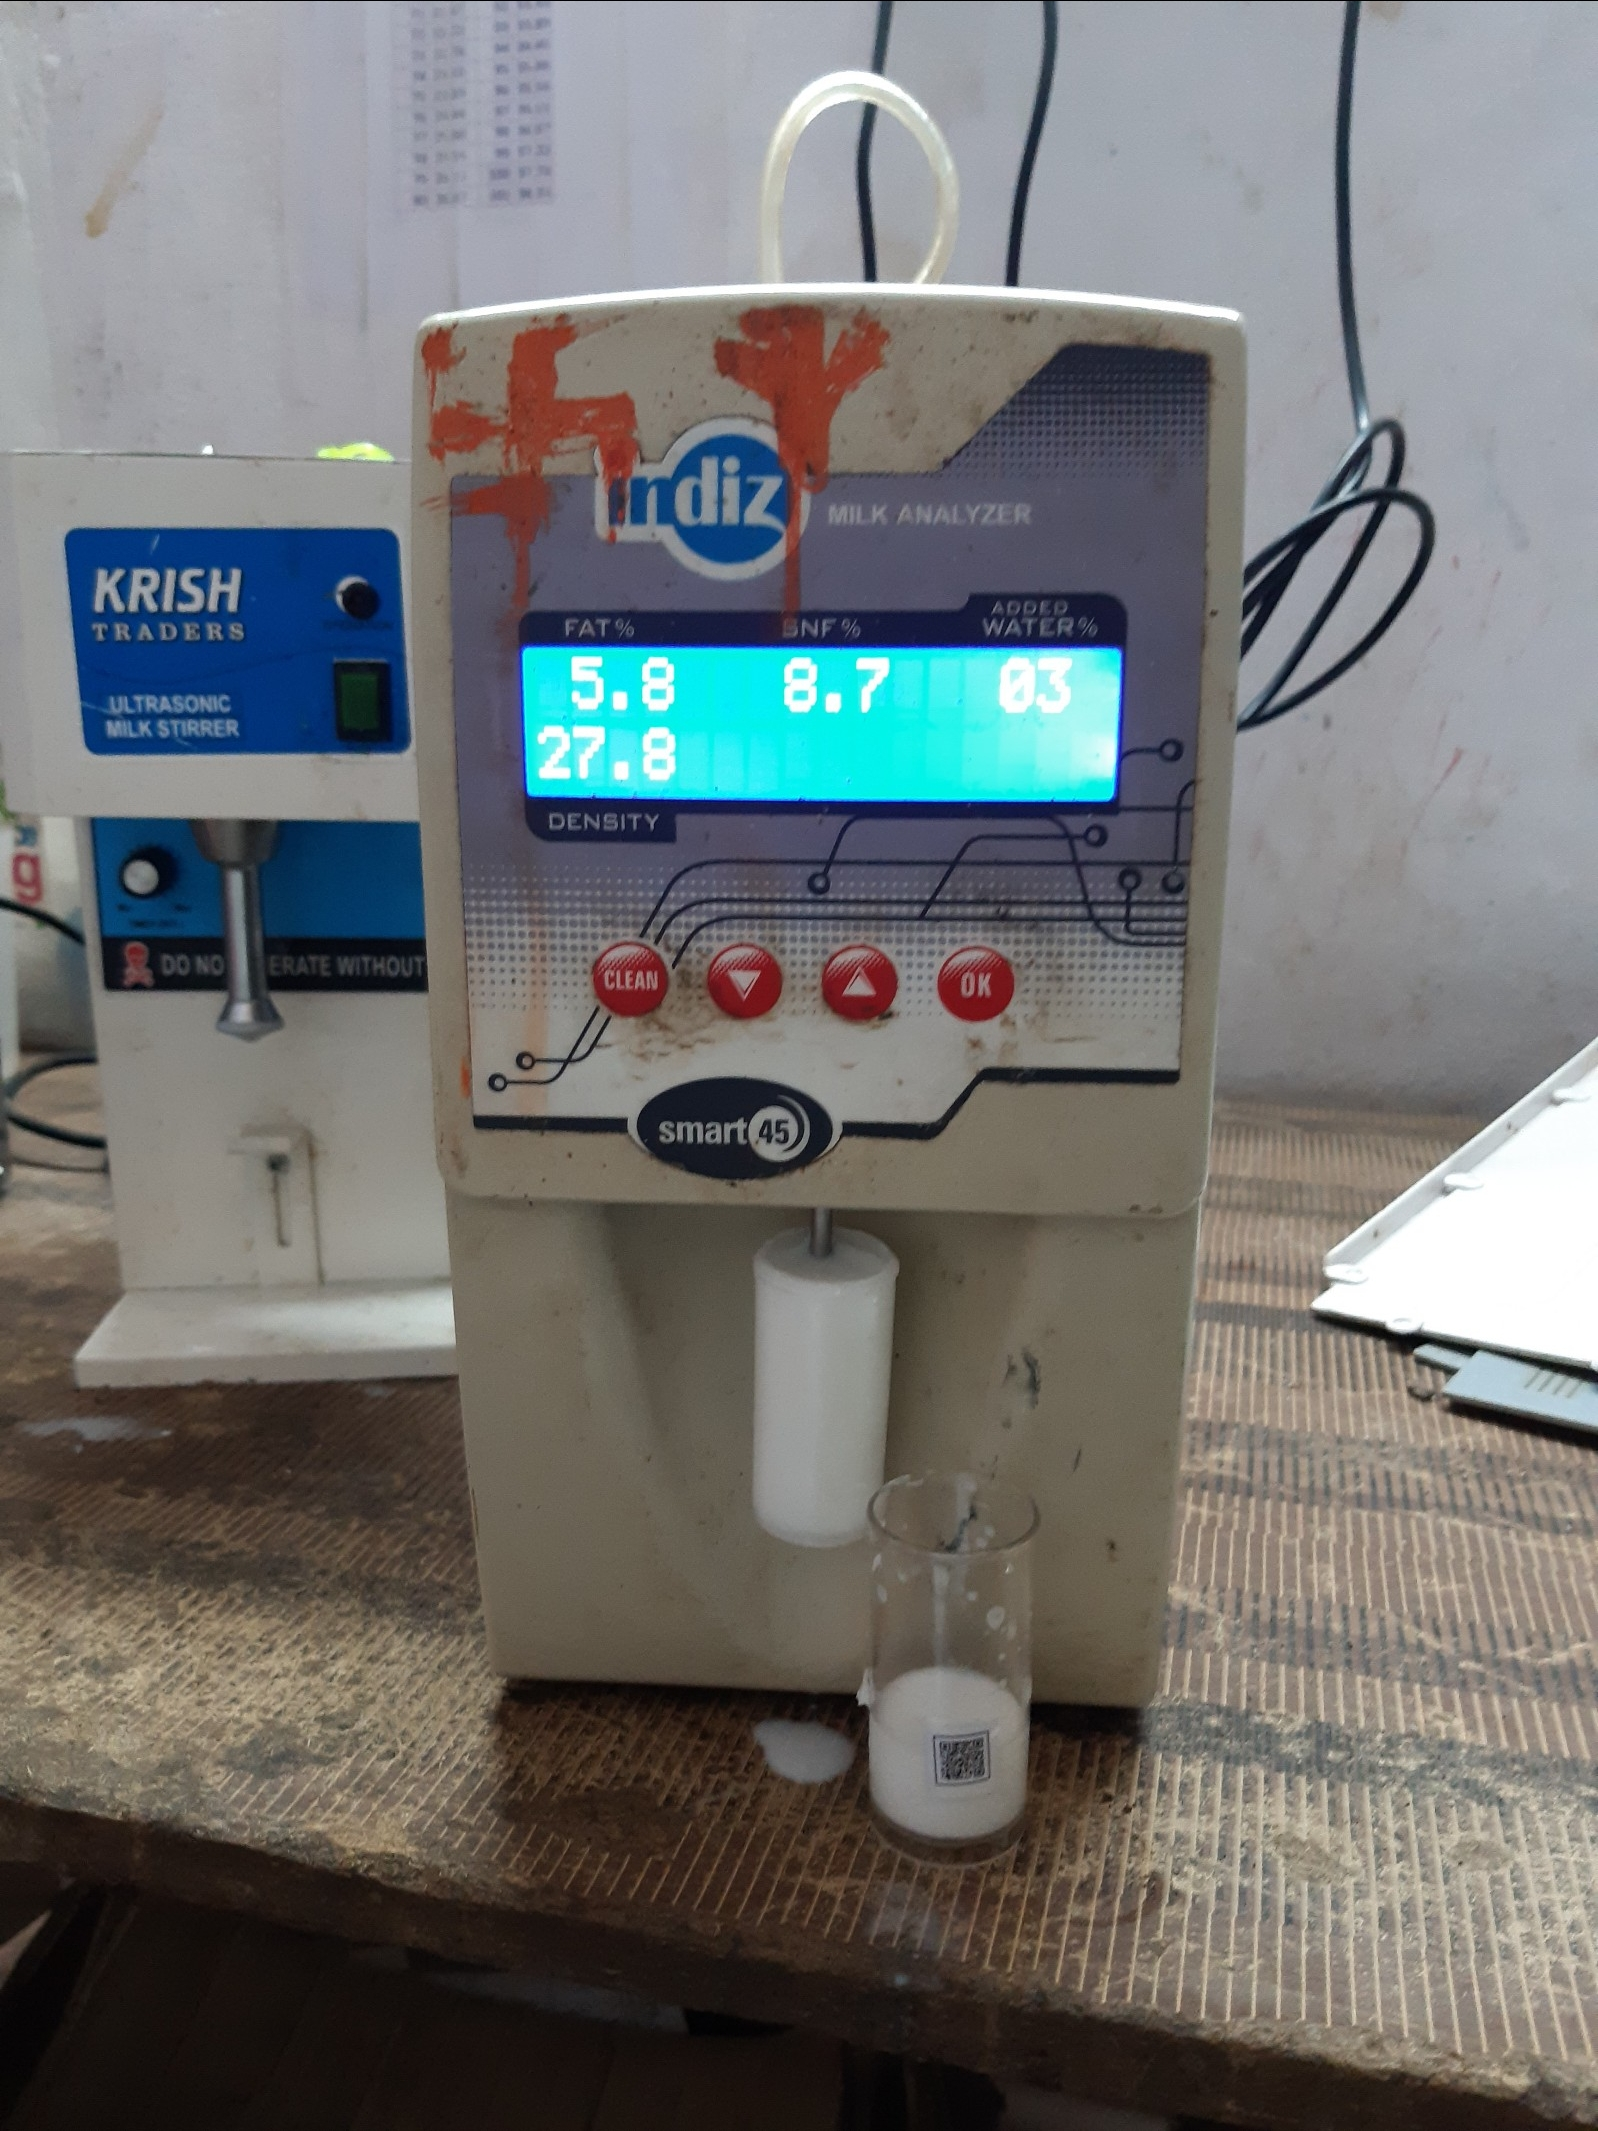lcd: (480, 629, 1145, 842)
qr: (928, 1713, 1029, 1804)
